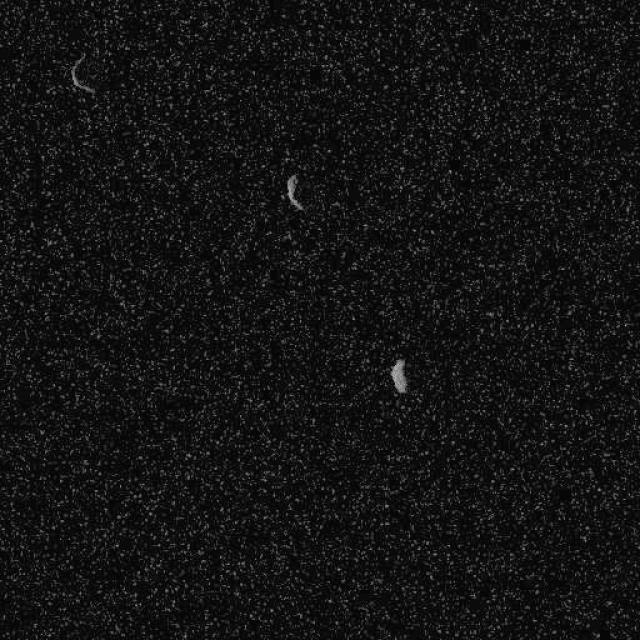D2: (67, 50, 96, 95), (284, 172, 305, 212), (389, 356, 409, 394)
